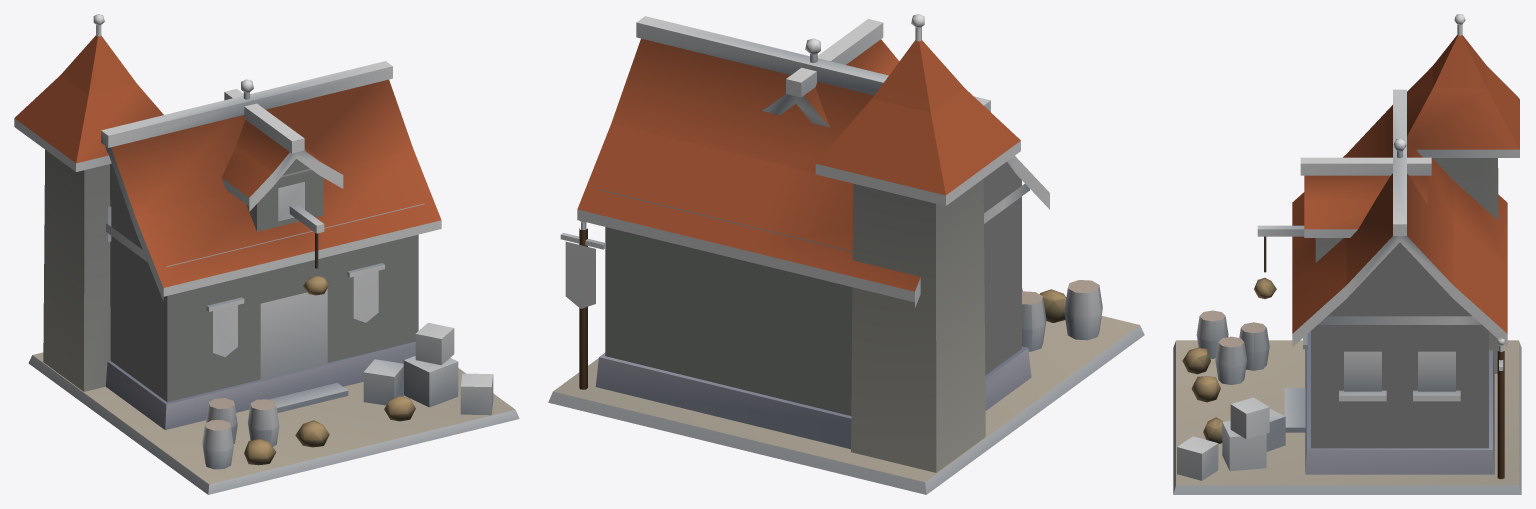
Rendered from storehouse_t5.glb.
The picture shows the model from 3 angles, left to right: view 1: azimuth 30°, elevation 25°; view 2: azimuth 150°, elevation 25°; view 3: azimuth 270°, elevation 25°; orthographic projection. The views are drawn at different scales.
Parts seen in each view (by area): view 1: storehouse_t5; view 2: storehouse_t5; view 3: storehouse_t5.
Boxes of the visible parts, x1,y1,x2,y2 form: storehouse_t5: (14,14,519,494); storehouse_t5: (548,14,1144,494); storehouse_t5: (1173,14,1521,494).
Size of the model in its own units: 1.95 by 2.07 by 1.86.
